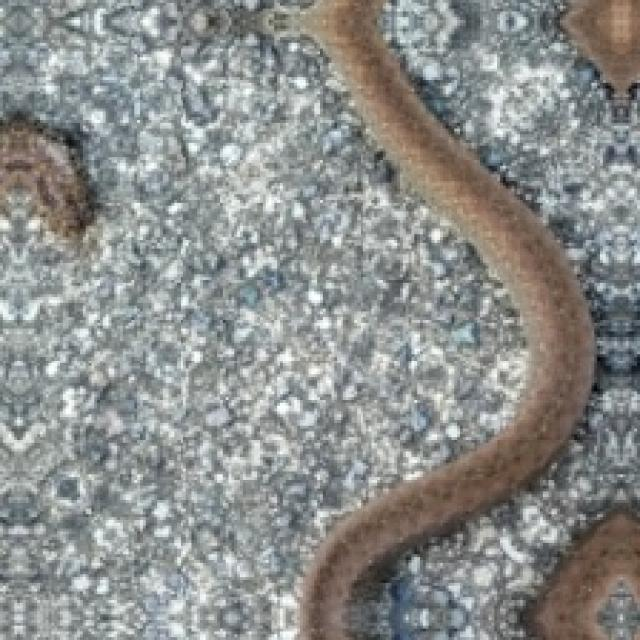reinhardts lined snake: (257, 0, 591, 637), (531, 514, 637, 637), (0, 120, 92, 237)
